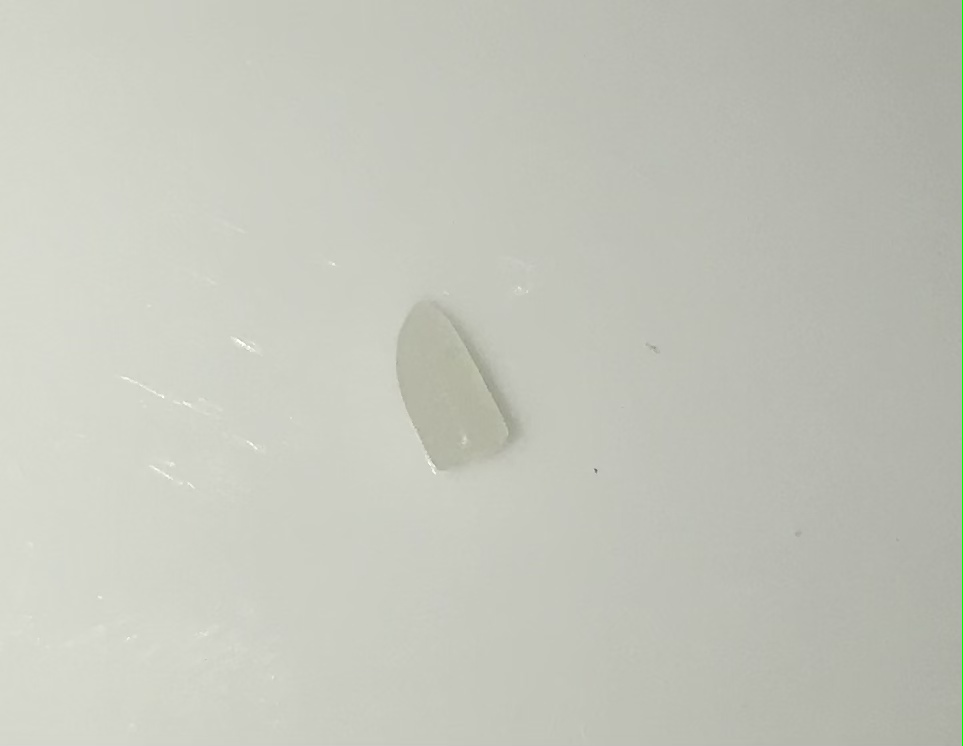Gao Tam: (386, 289, 525, 479)
